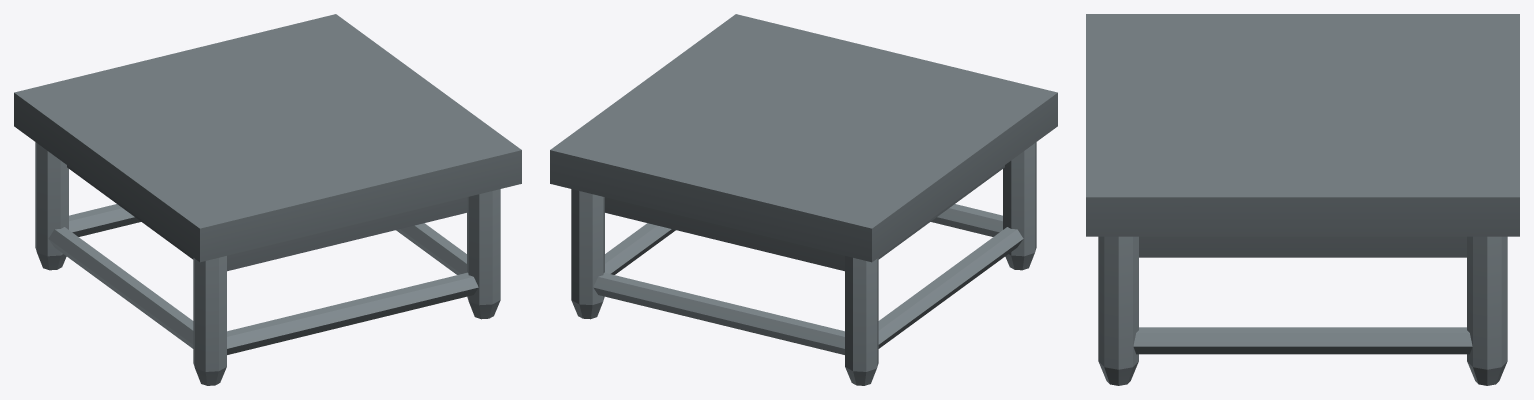
Rendered from BackTable.obj.
3 views of the same model, side by side, from view 1: azimuth 30°, elevation 25°; view 2: azimuth 150°, elevation 25°; view 3: azimuth 270°, elevation 25° (orthographic). The views are drawn at different scales.
Parts seen in each view (by area): view 1: Cube.990; view 2: Cube.990; view 3: Cube.990.
Boxes of the visible parts, x1,y1,x2,y2 form: Cube.990: (14, 14, 521, 385); Cube.990: (550, 14, 1057, 385); Cube.990: (1086, 14, 1519, 385).
Bounding box in the file's own units: 2 × 1 × 2.
Materials: 1 (1 with a texture image).
